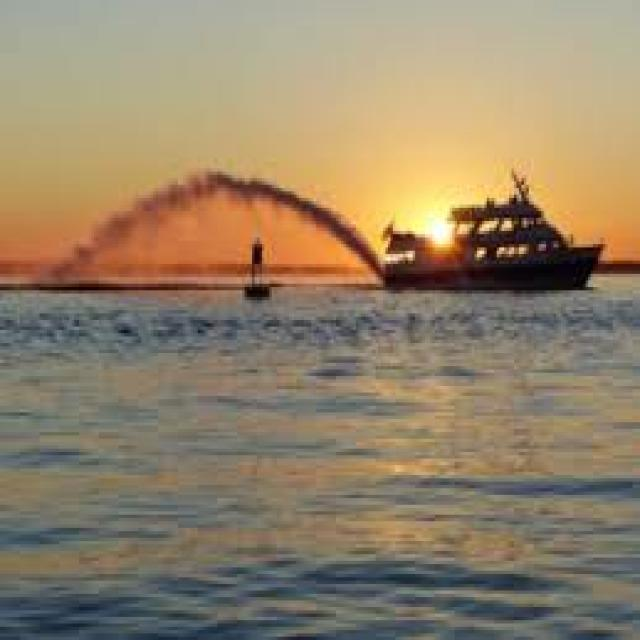houseboat: (379, 165, 598, 294)
